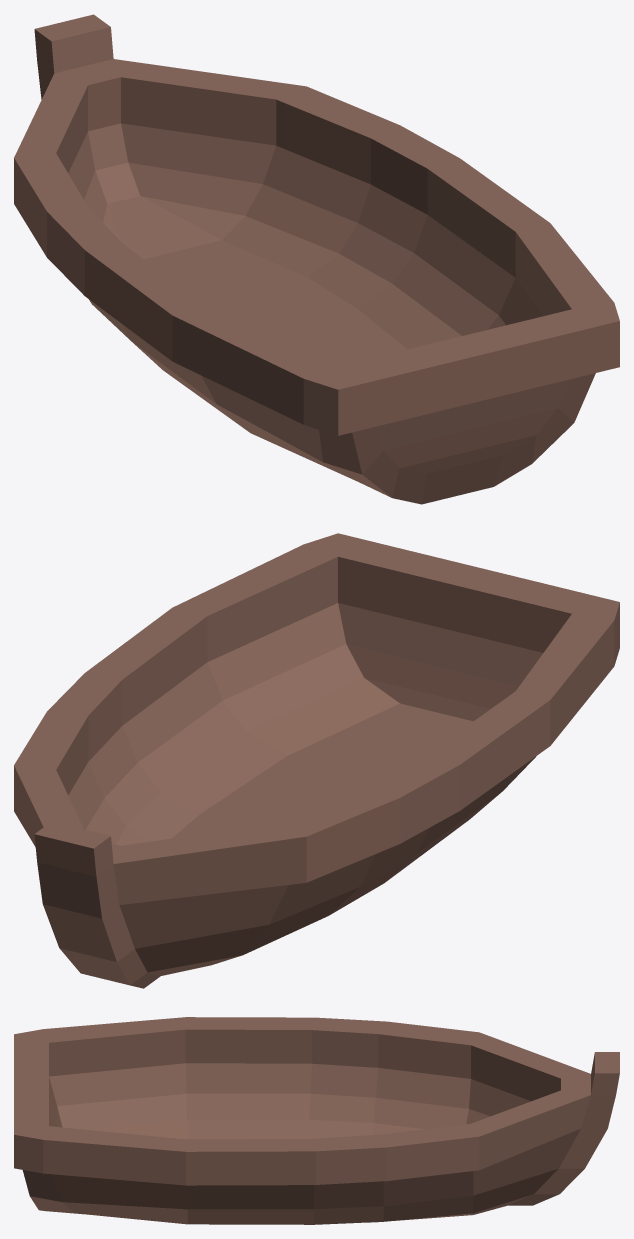
The model's file is dinghy.fbx.
The picture shows the model from 3 angles, top to bottom: view 1: azimuth 30°, elevation 25°; view 2: azimuth 150°, elevation 25°; view 3: azimuth 270°, elevation 25°; orthographic projection. The views are drawn at different scales.
Visible parts, largest first — view 1: dinghy; view 2: dinghy; view 3: dinghy.
Boxes of the visible parts, <box> form: dinghy: <box>14,14,619,504</box>; dinghy: <box>14,533,619,988</box>; dinghy: <box>14,1017,619,1224</box>.
Size of the model in its own units: 312 by 592 by 146.
